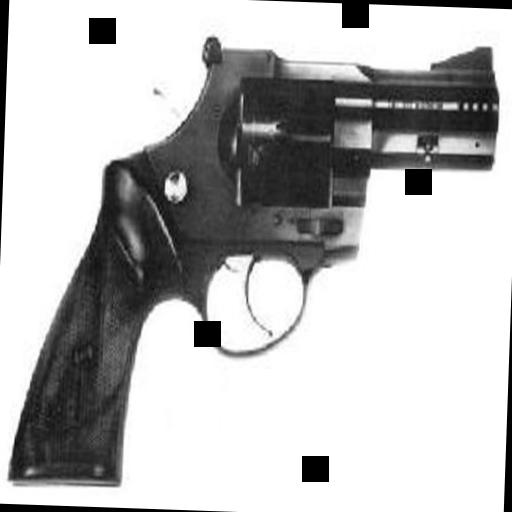Handgun: (2, 24, 503, 500)
